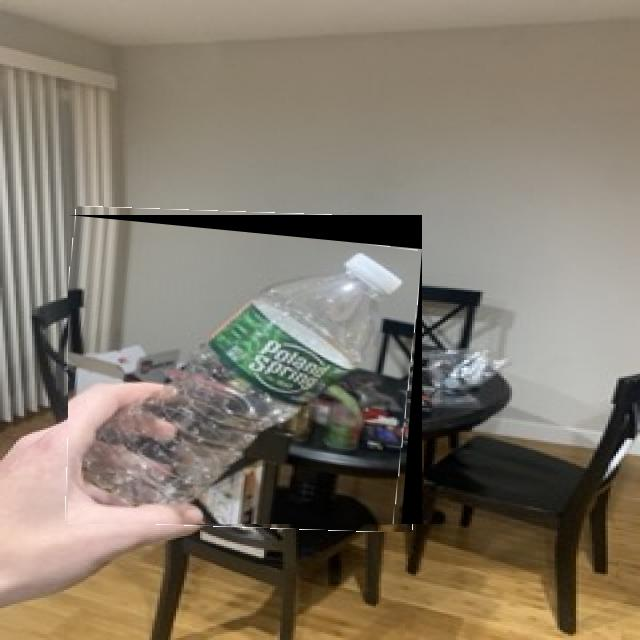water_bottle: (68, 238, 421, 524)
